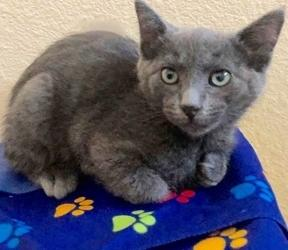rblue: (129, 1, 285, 141)
